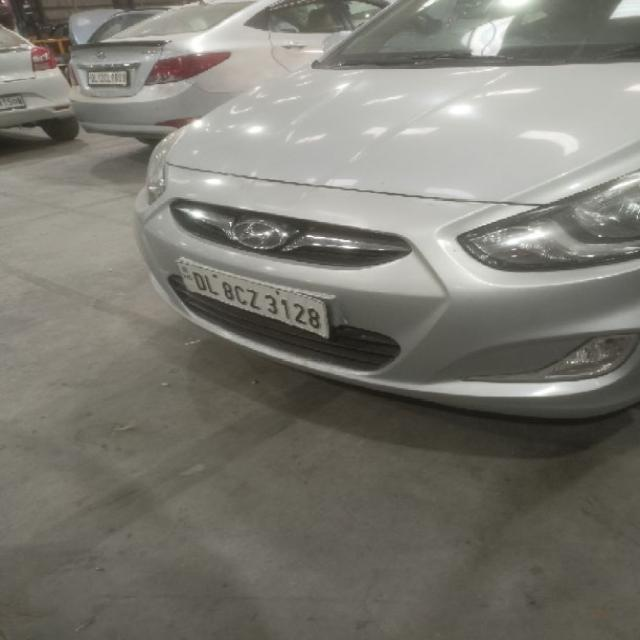license_plate: (174, 256, 332, 341), (85, 69, 128, 86), (0, 93, 25, 110)
